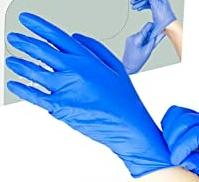gloves: (5, 11, 172, 182)
